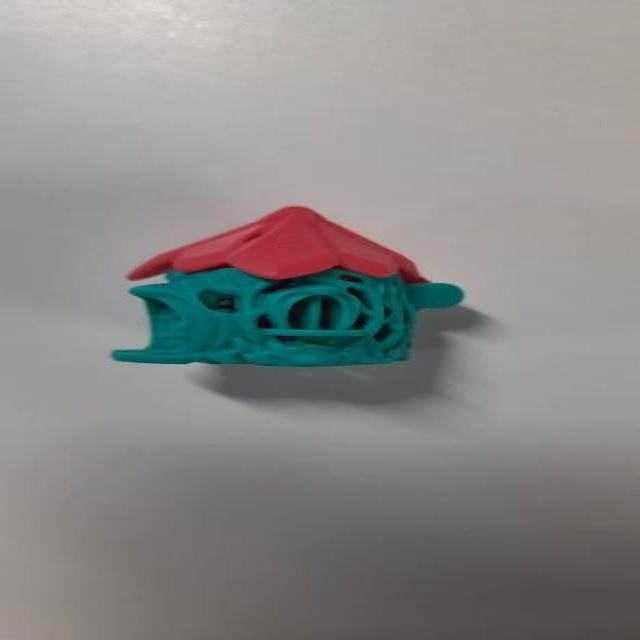House: (78, 191, 521, 409)
